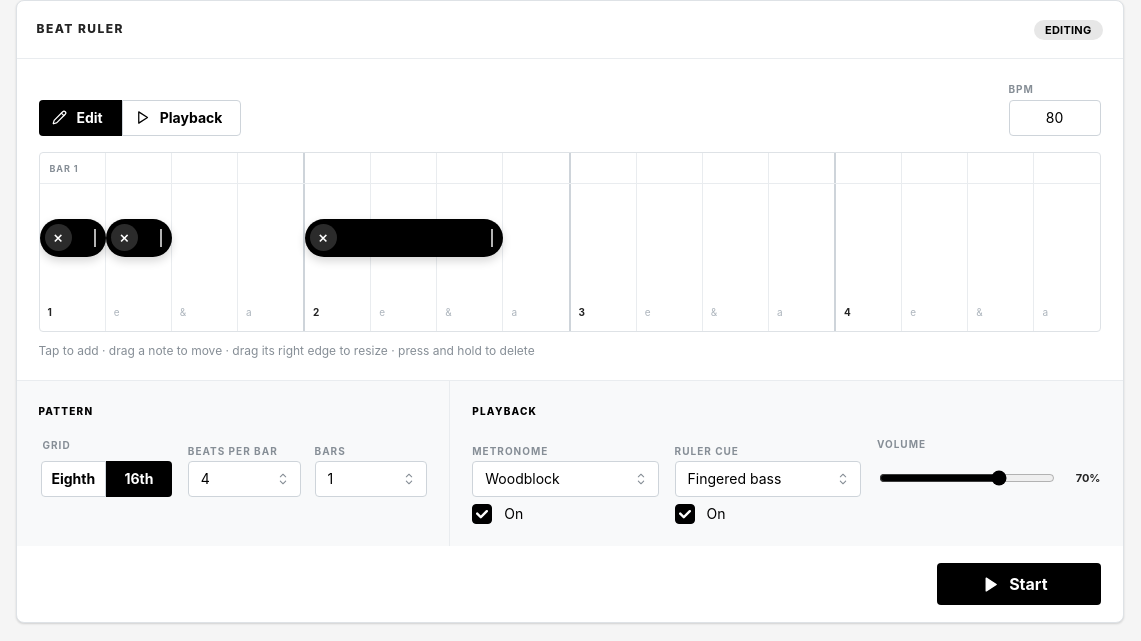
Scenario: Beat Ruler UI › removes off-grid attacks and rounds retained durations up when switching to eighths
Click the button "Eighth": (73, 479) x1=40 y1=461 x2=106 y2=497
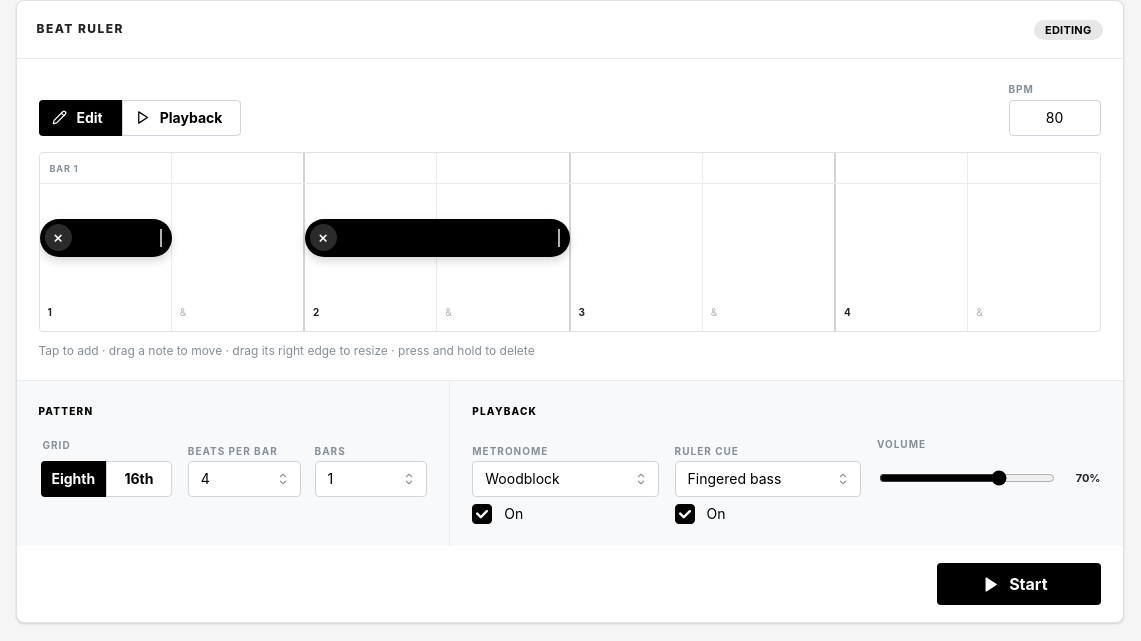
Expected: the button with test id "ruler-note-off-grid" is gone
